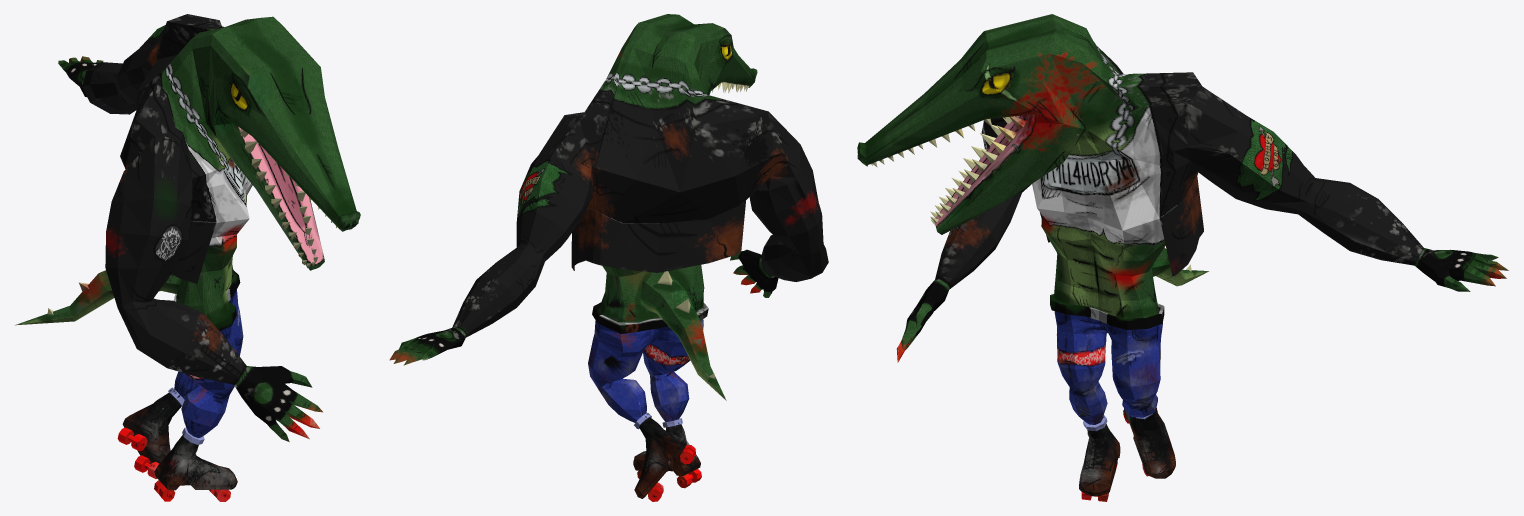
Rendered from cocodrilaBonesSelect_000047.obj.
3 views of the same model, side by side, from view 1: azimuth 30°, elevation 25°; view 2: azimuth 150°, elevation 25°; view 3: azimuth 270°, elevation 25° (orthographic). The views are drawn at different scales.
Parts seen in each view (by area): view 1: Crocodile.002_Cylinder.002; view 2: Crocodile.002_Cylinder.002; view 3: Crocodile.002_Cylinder.002.
Boxes of the visible parts, x1,y1,x2,y2 form: Crocodile.002_Cylinder.002: (15,14,360,501); Crocodile.002_Cylinder.002: (389,14,828,501); Crocodile.002_Cylinder.002: (857,14,1508,501).
Bounding box in the file's own units: 3.36 × 6.49 × 8.05.
